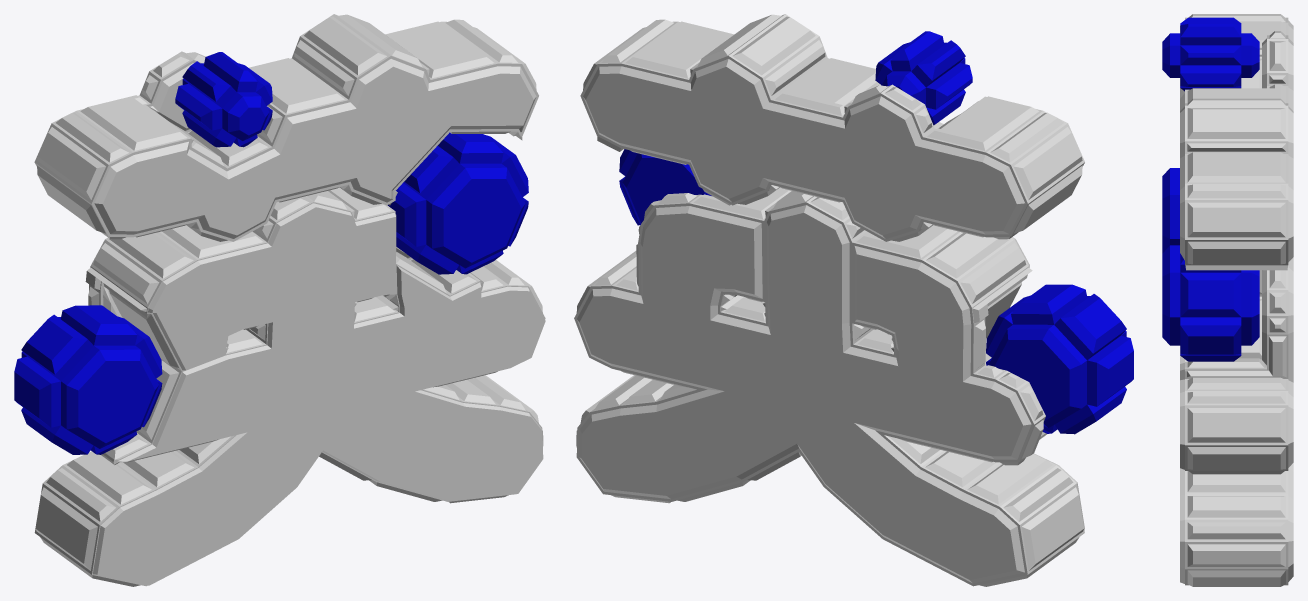
The model's file is Ch_China_英_01.fbx.
The picture shows the model from 3 angles, left to right: view 1: azimuth 30°, elevation 25°; view 2: azimuth 150°, elevation 25°; view 3: azimuth 270°, elevation 25°; orthographic projection. The views are drawn at different scales.
Visible parts, largest first — view 1: sphere1; view 2: sphere1; view 3: sphere1.
Boxes of the visible parts, x1=… form: sphere1: x1=14, y1=14, x2=545, y2=586; sphere1: x1=574, y1=14, x2=1133, y2=586; sphere1: x1=1162, y1=14, x2=1293, y2=586.
Size of the model in its own units: 1.02 by 0.9527 by 0.2541.
